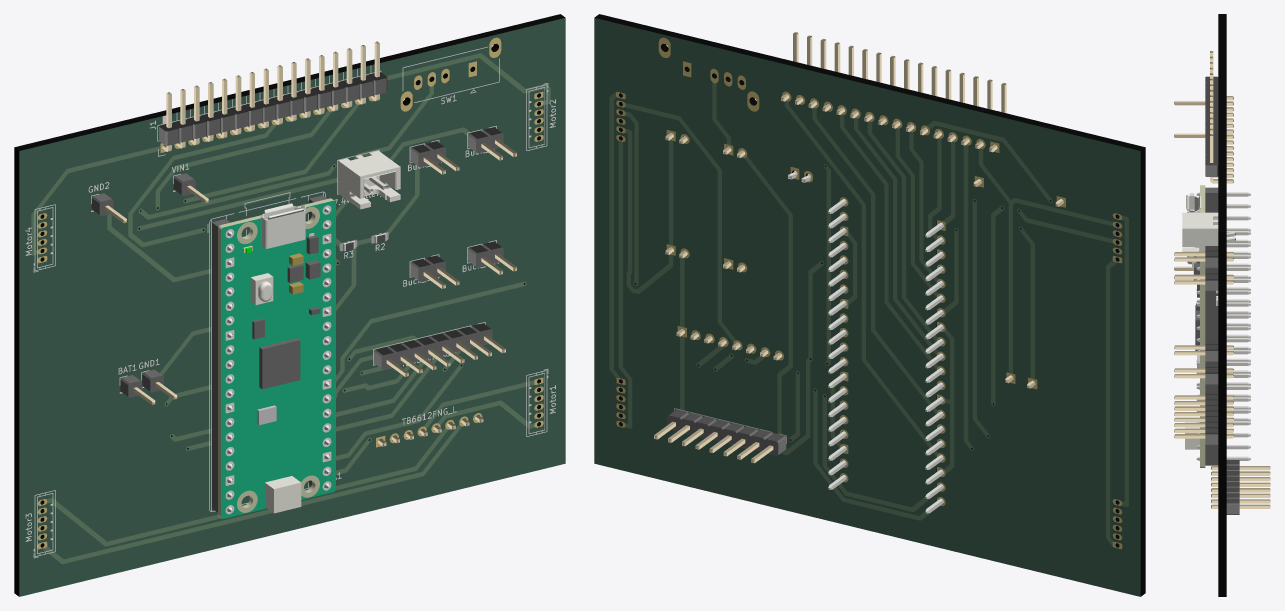
Rendered from PCB.glb.
The picture shows the model from 3 angles, left to right: view 1: azimuth 30°, elevation 25°; view 2: azimuth 150°, elevation 25°; view 3: azimuth 270°, elevation 25°; orthographic projection. The views are drawn at different scales.
Parts seen in each view (by area): view 1: Shape (×14); view 2: Shape (×5); view 3: Shape (×9).
Part boxes in pixels (<box>): Shape (×14): <box>14,14,565,596</box>; Shape (×5): <box>594,14,1145,596</box>; Shape (×9): <box>1182,14,1226,596</box>.
Bounding box in the file's own units: 0.1 × 0.0825 × 0.0187.
